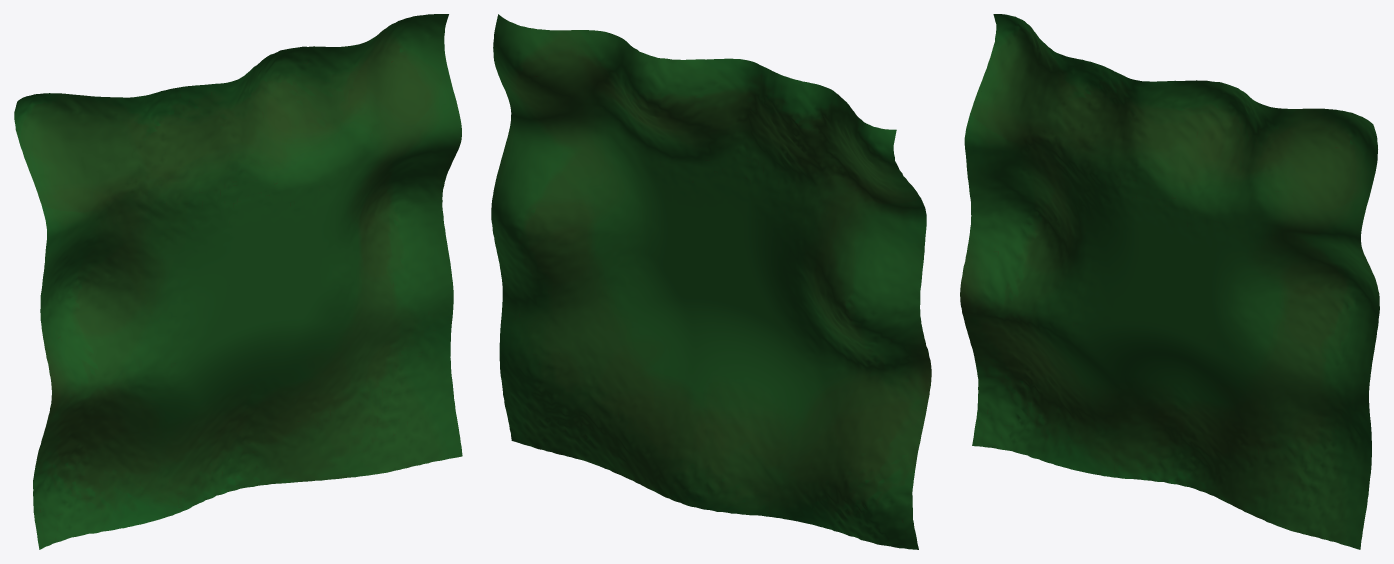
Rendered from ground.dae.
3 renders of one model, left to right at view 1: azimuth 30°, elevation 25°; view 2: azimuth 150°, elevation 25°; view 3: azimuth 330°, elevation 25°, orthographic. The views are drawn at different scales.
Parts seen in each view (by area): view 1: Plane; view 2: Plane; view 3: Plane.
Part boxes in pixels (bbox=[...]): Plane: bbox=[14, 14, 462, 549]; Plane: bbox=[491, 14, 931, 549]; Plane: bbox=[960, 14, 1379, 549].
Size of the model in its own units: 2 by 0.3523 by 2.
Materials: 1 (1 with a texture image).
